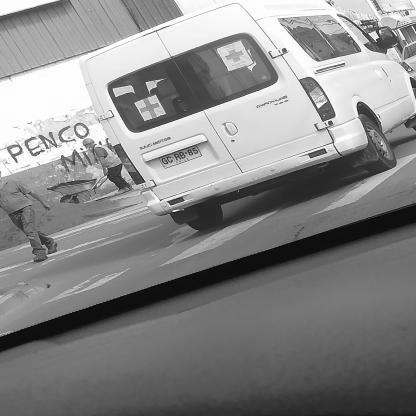Patente: (155, 144, 208, 172)
